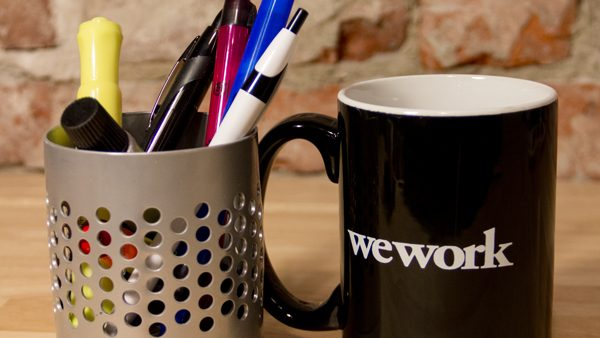wework: (345, 225, 515, 272)
